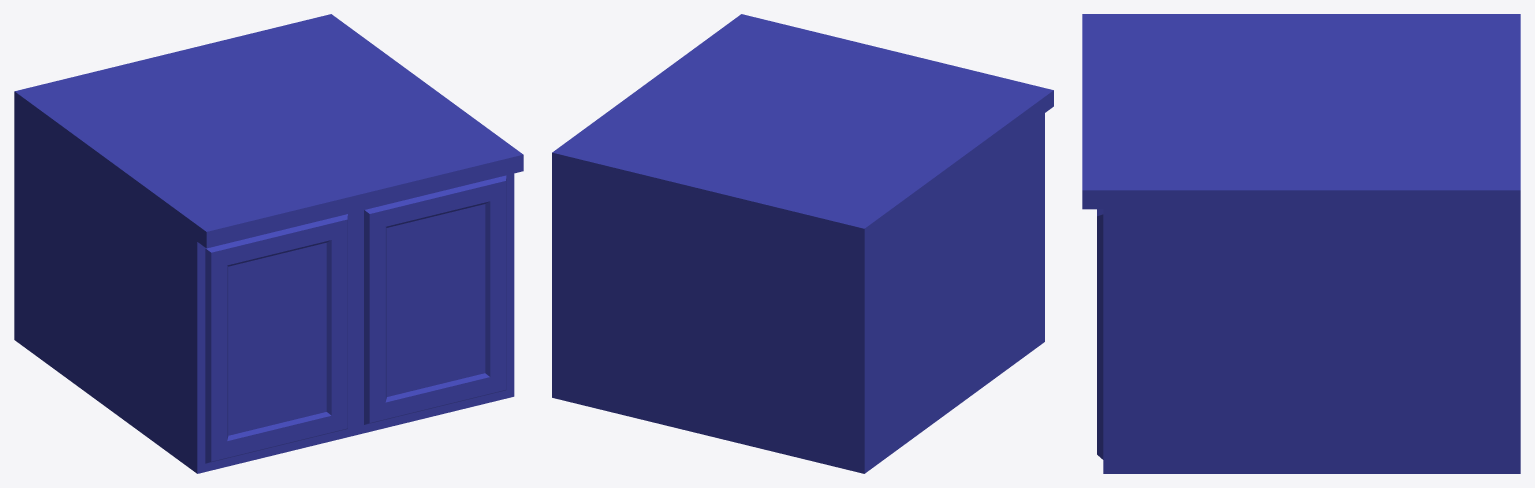
The model's file is counterC_2x1-5x2.FBX.
The picture shows the model from 3 angles, left to right: view 1: azimuth 30°, elevation 25°; view 2: azimuth 150°, elevation 25°; view 3: azimuth 270°, elevation 25°; orthographic projection. The views are drawn at different scales.
Parts seen in each view (by area): view 1: counterC_wood, counterC_marble; view 2: counterC_wood, counterC_marble; view 3: counterC_wood, counterC_marble.
Part boxes in pixels (x1,y1,x2,y2): counterC_wood: (14, 108, 514, 473); counterC_marble: (14, 14, 523, 248); counterC_wood: (552, 113, 1044, 473); counterC_marble: (552, 14, 1053, 244); counterC_wood: (1097, 209, 1520, 473); counterC_marble: (1082, 14, 1520, 209).
Size of the model in its own units: 2 by 1.5 by 2.1.
